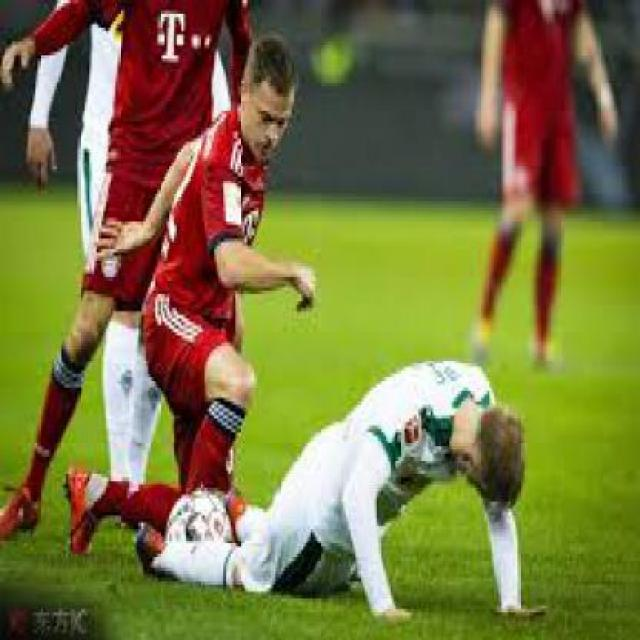fall: (65, 353, 558, 605)
